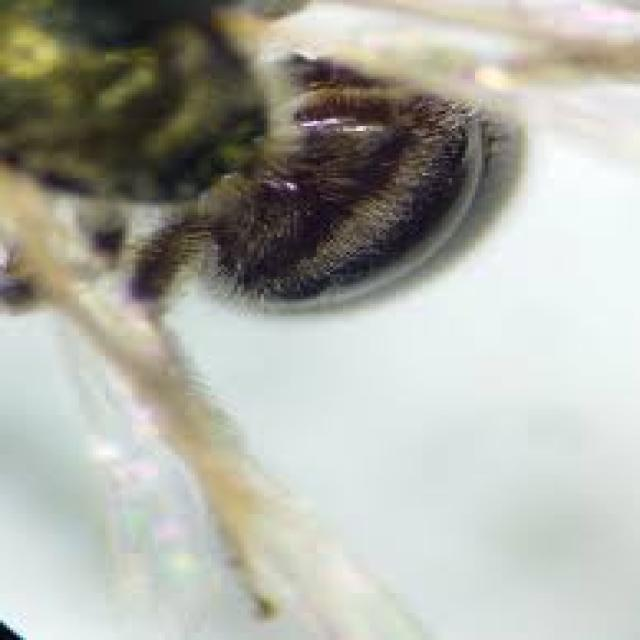Lasioglossum: (11, 0, 536, 499)
